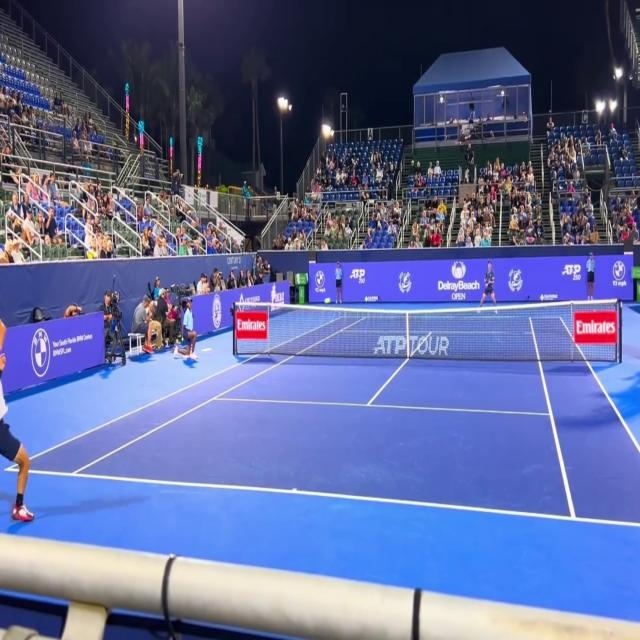tennisBall: (323, 292, 332, 305)
